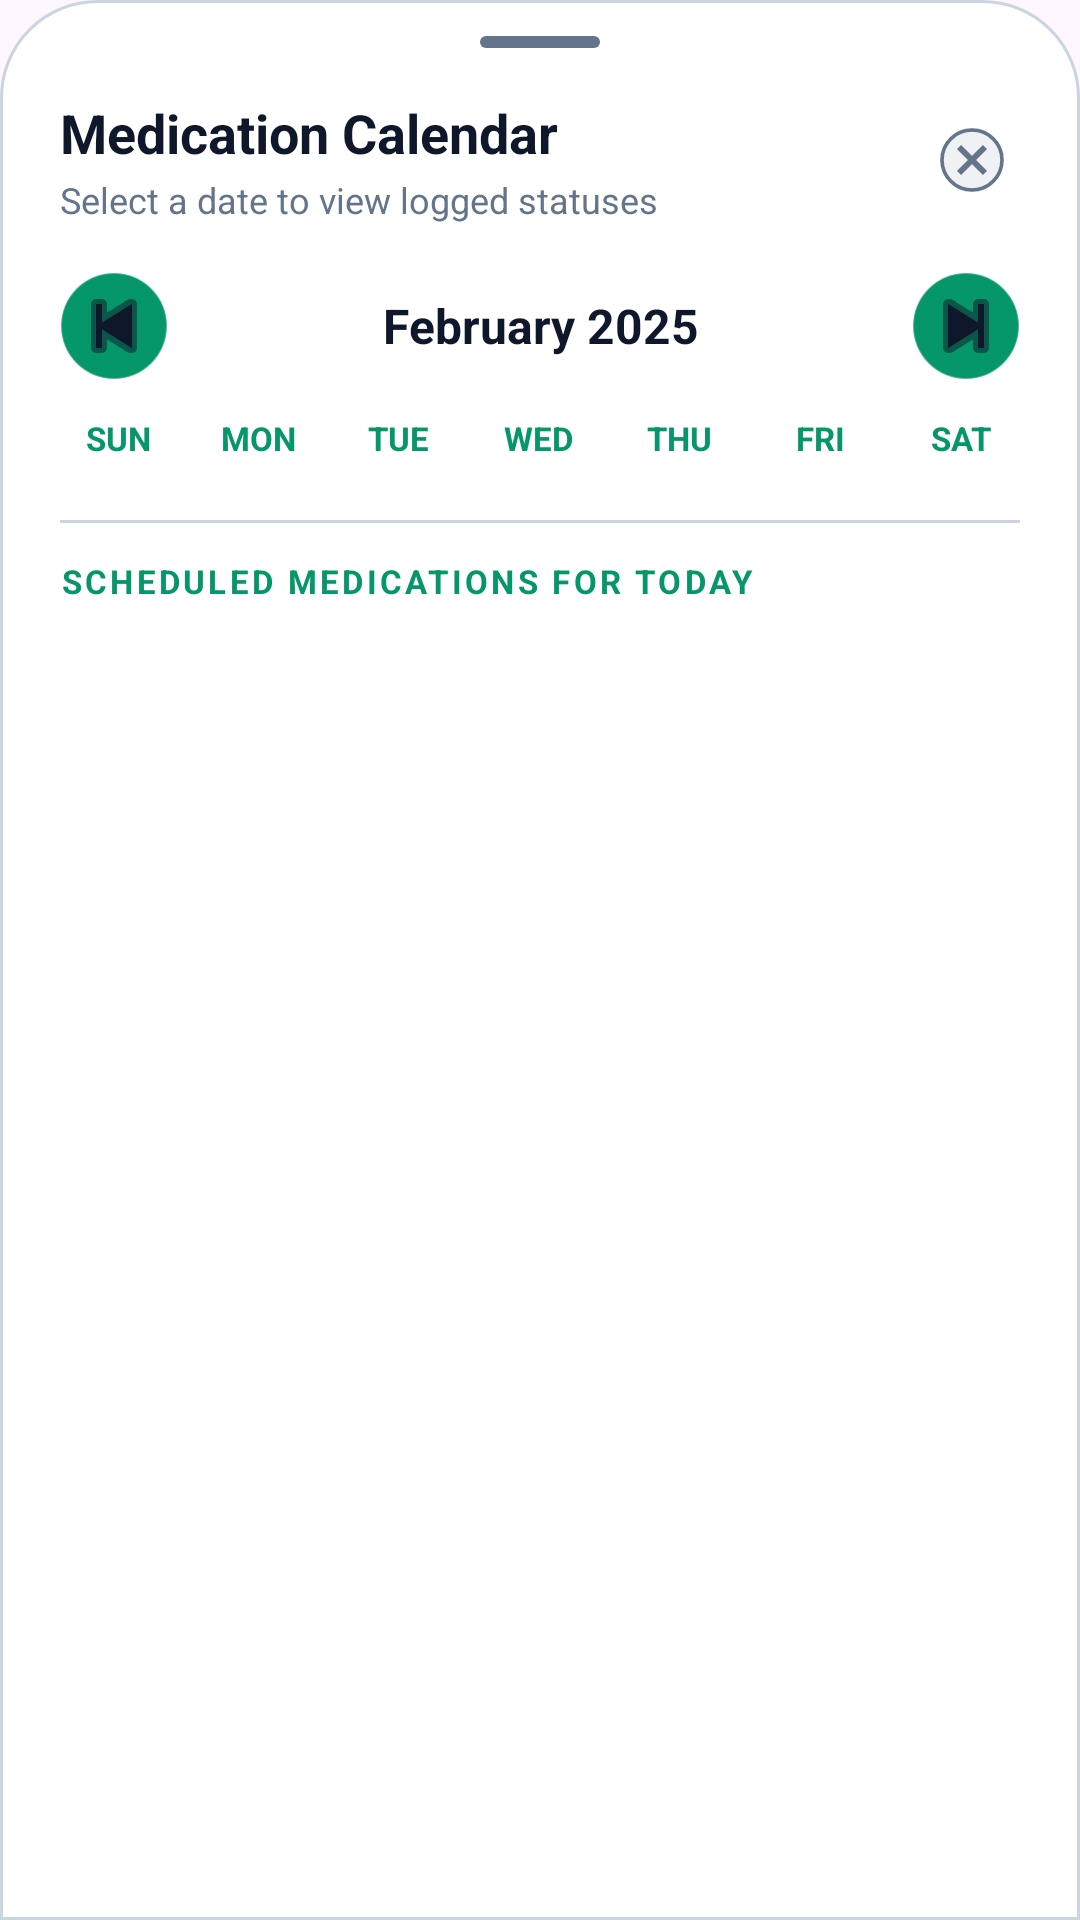

Point at icon controls on the screen. Image size 1080x1920, points as (x,y).
Close: (972,160)
Next Month: (966,326)
Previous Month: (114,326)
